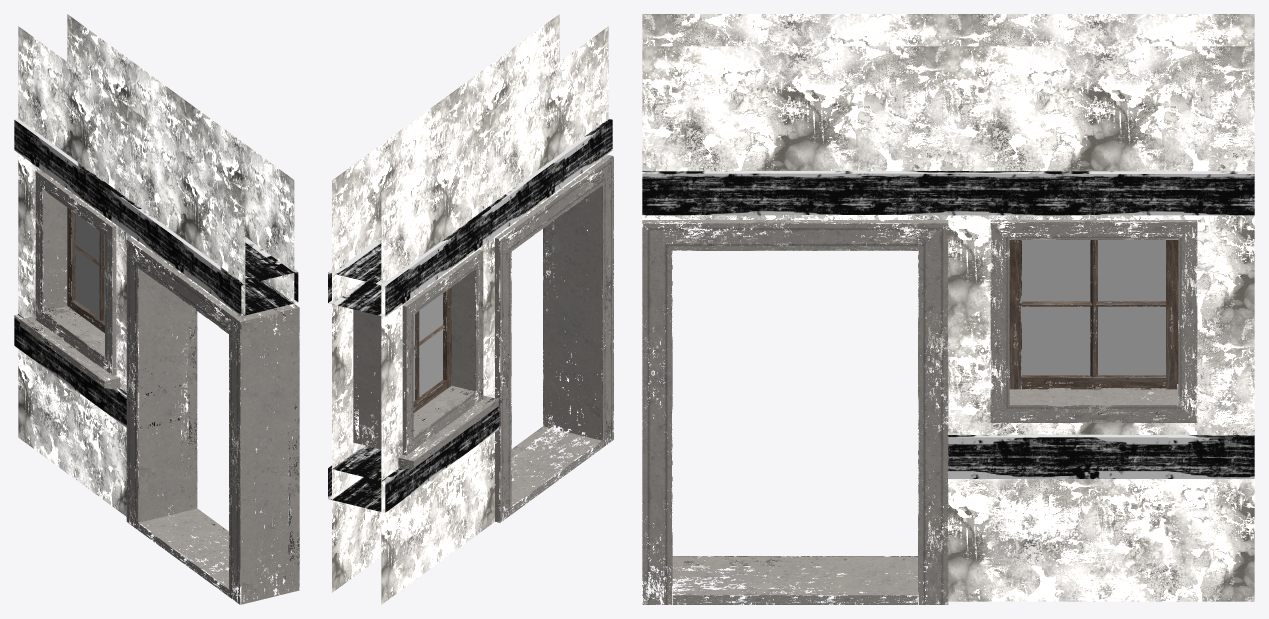
The model's file is SM_wall_A_doorway_4x4_02_03.fbx.
3 views of the same model, side by side, from view 1: azimuth 30°, elevation 25°; view 2: azimuth 150°, elevation 25°; view 3: azimuth 270°, elevation 25° (orthographic). The views are drawn at different scales.
Visible parts, largest first — view 1: SM_wall_A_doorway_4x4_02_03_LOD0; view 2: SM_wall_A_doorway_4x4_02_03_LOD0; view 3: SM_wall_A_doorway_4x4_02_03_LOD0.
Part boxes in pixels (x1,y1,x2,y2): SM_wall_A_doorway_4x4_02_03_LOD0: (14,14,299,604); SM_wall_A_doorway_4x4_02_03_LOD0: (328,14,613,604); SM_wall_A_doorway_4x4_02_03_LOD0: (642,14,1254,604).
Size of the model in its own units: 71.08 by 400 by 400.
Materials: 6 (5 with a texture image).
